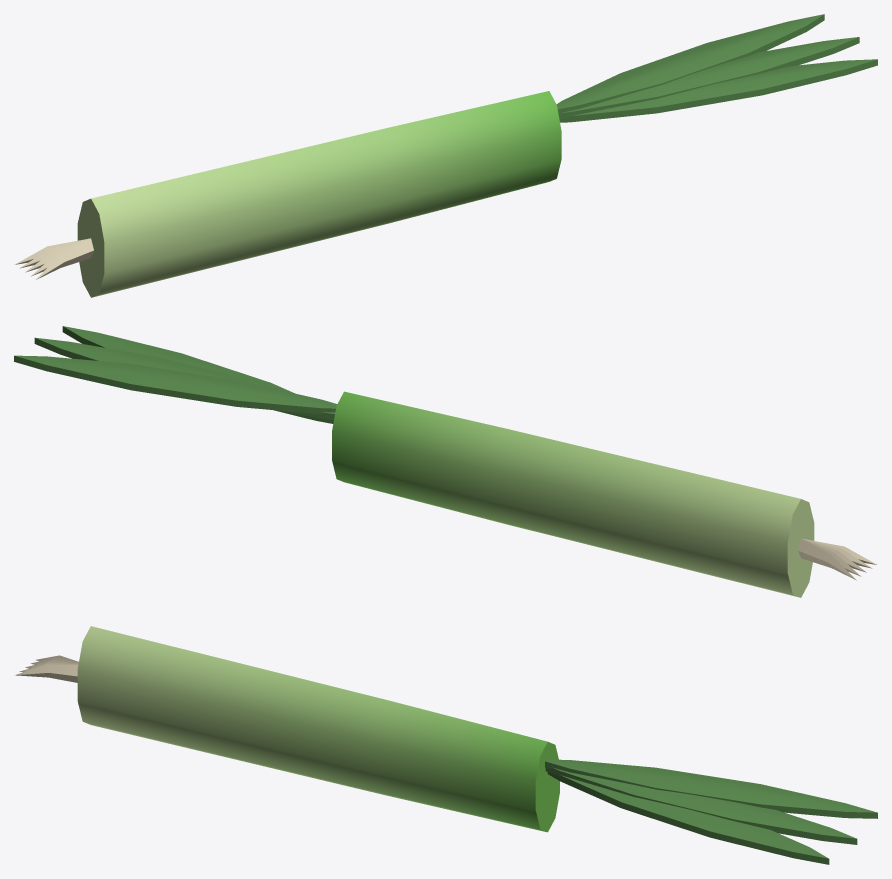
File: tide_leek.glb
3 views of the same model, one above another, from view 1: azimuth 30°, elevation 25°; view 2: azimuth 150°, elevation 25°; view 3: azimuth 330°, elevation 25° (orthographic).
Visible parts, largest first — view 1: tide_leek; view 2: tide_leek; view 3: tide_leek.
Part boxes in pixels (x1,y1,x2,y2): tide_leek: (14, 14, 877, 297); tide_leek: (14, 326, 876, 597); tide_leek: (15, 626, 877, 864).
Size of the model in its own units: 0.22 by 0.025 by 0.025.
